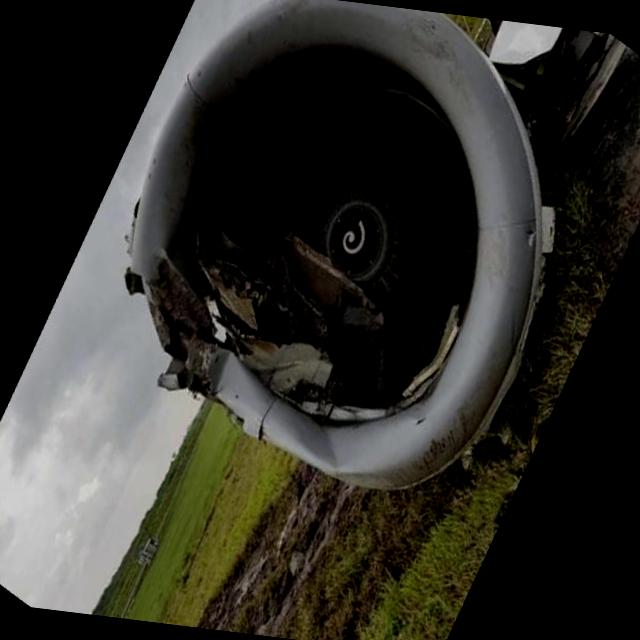dent: (280, 409, 407, 495), (204, 346, 244, 401)
